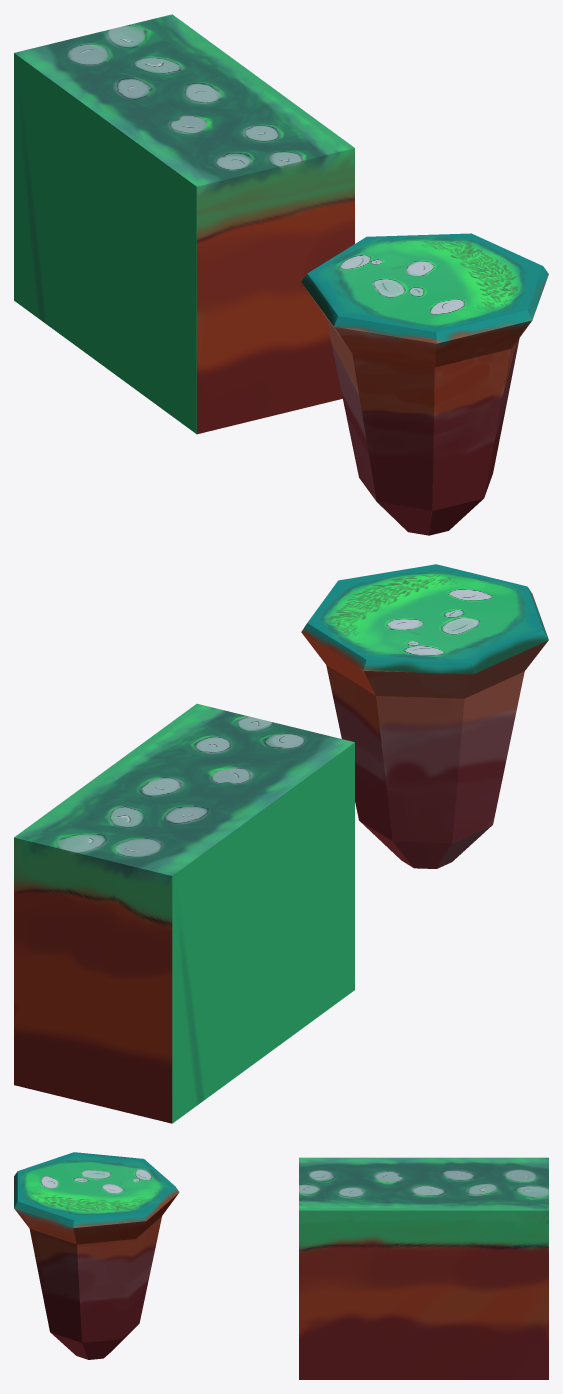
File: road23.fbx
3 views of the same model, one above another, from view 1: azimuth 30°, elevation 25°; view 2: azimuth 150°, elevation 25°; view 3: azimuth 270°, elevation 25° (orthographic). The views are drawn at different scales.
Visible parts, largest first — view 1: RoadObstacle.001, Circle; view 2: RoadObstacle.001, Circle; view 3: RoadObstacle.001, Circle.
Boxes of the visible parts, box(x1,y1,x2,y2) form: RoadObstacle.001: box(14, 14, 354, 434); Circle: box(301, 233, 548, 535); RoadObstacle.001: box(14, 703, 354, 1123); Circle: box(301, 564, 548, 868); RoadObstacle.001: box(299, 1157, 548, 1379); Circle: box(14, 1152, 179, 1359).
Bounding box in the file's own units: 680 × 747 × 2141.
